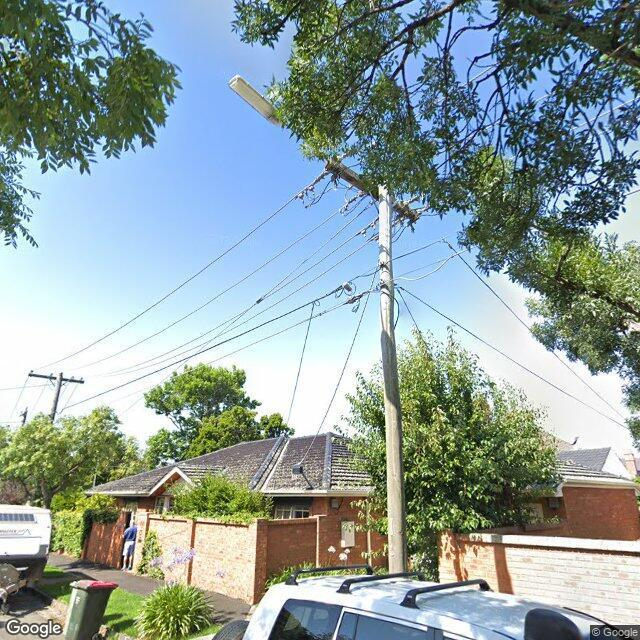crossarm: (325, 158, 418, 222), (29, 374, 84, 384)
streetlight: (227, 75, 333, 163)
timber-pole: (378, 182, 406, 574), (50, 373, 63, 423)
